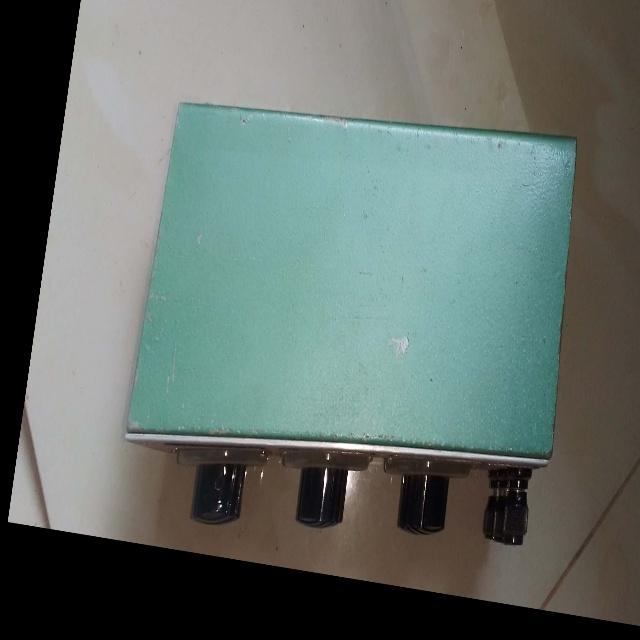Decade Resistance Box: (106, 67, 610, 585)
